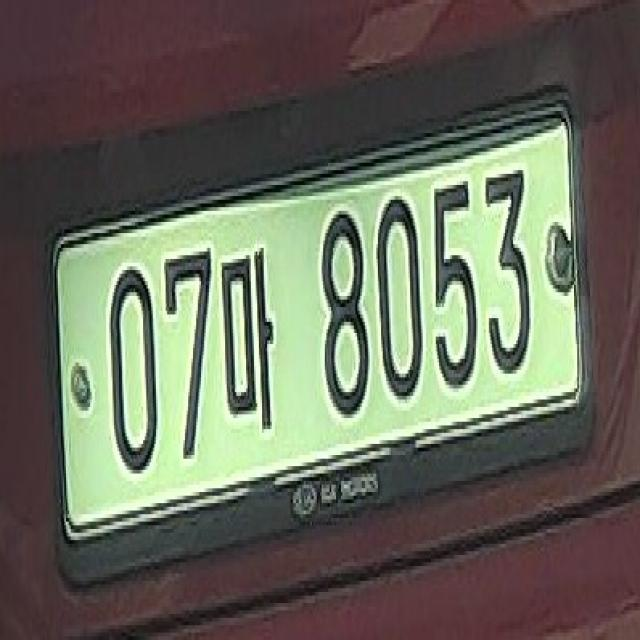0: (110, 254, 158, 491), (376, 184, 422, 410)
3: (483, 162, 544, 398)
5: (431, 171, 478, 406)
7: (165, 244, 215, 481)
8: (316, 194, 371, 427)
license_plate: (35, 74, 605, 590)
ma: (221, 228, 285, 450)
